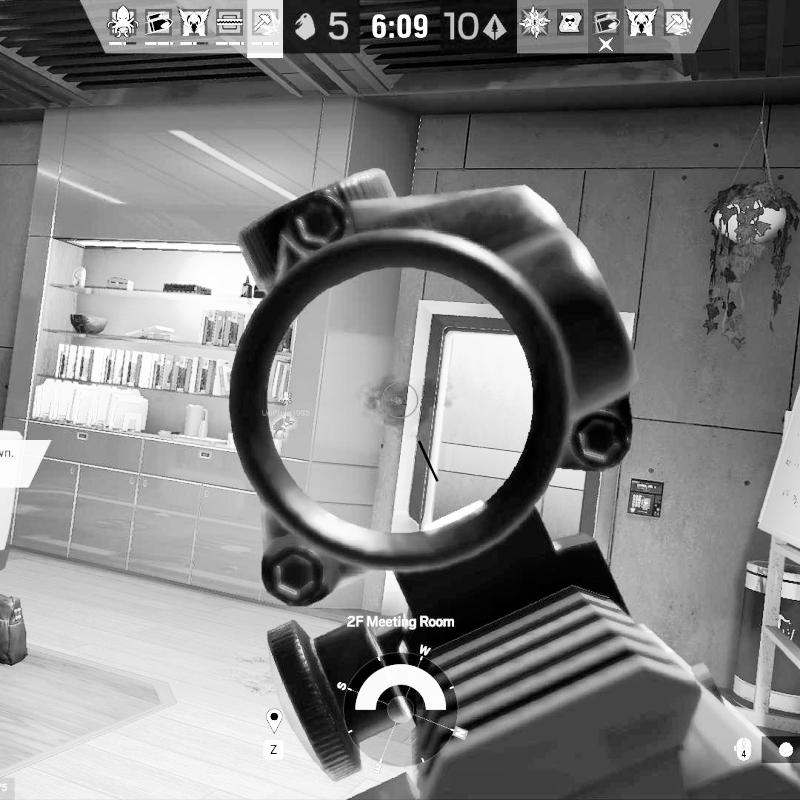Friend_label: (260, 390, 313, 418)
